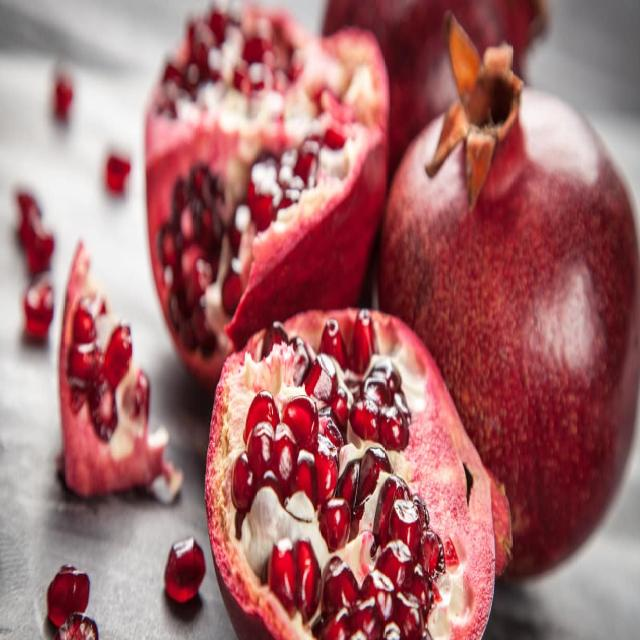apple: (384, 13, 638, 591)
